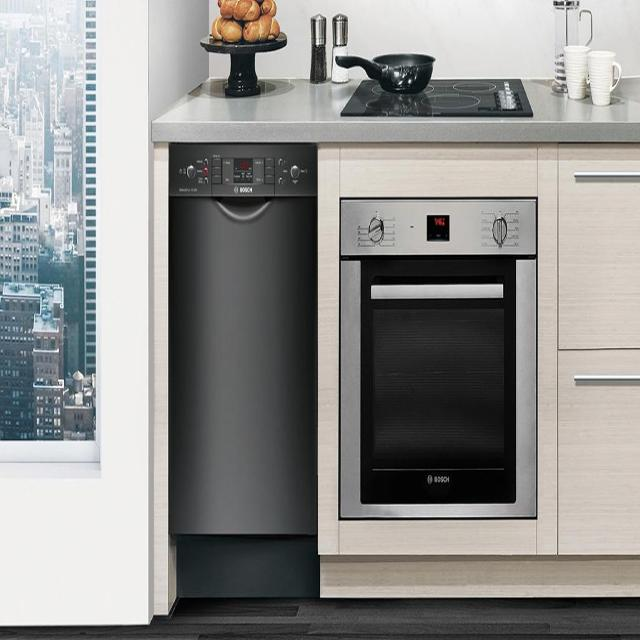dishwasher: (156, 111, 333, 594)
